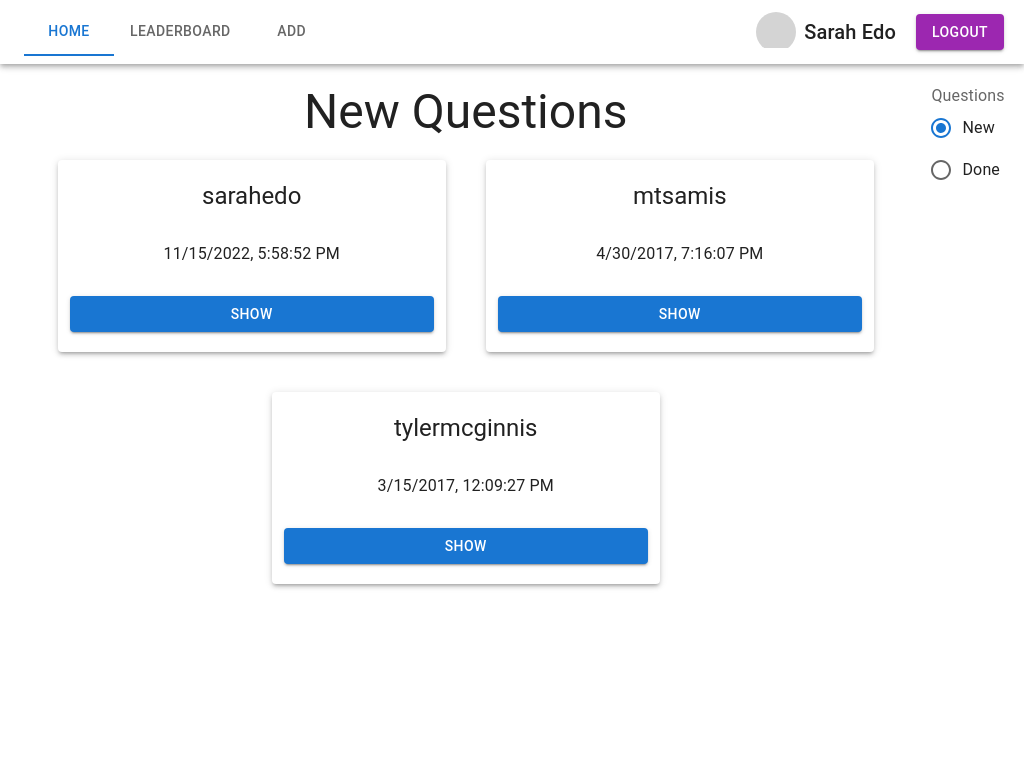
Test: App › Render tests › Switch to Add new question tab
Click the tab "add" at (292, 32), box [247, 8, 337, 56]
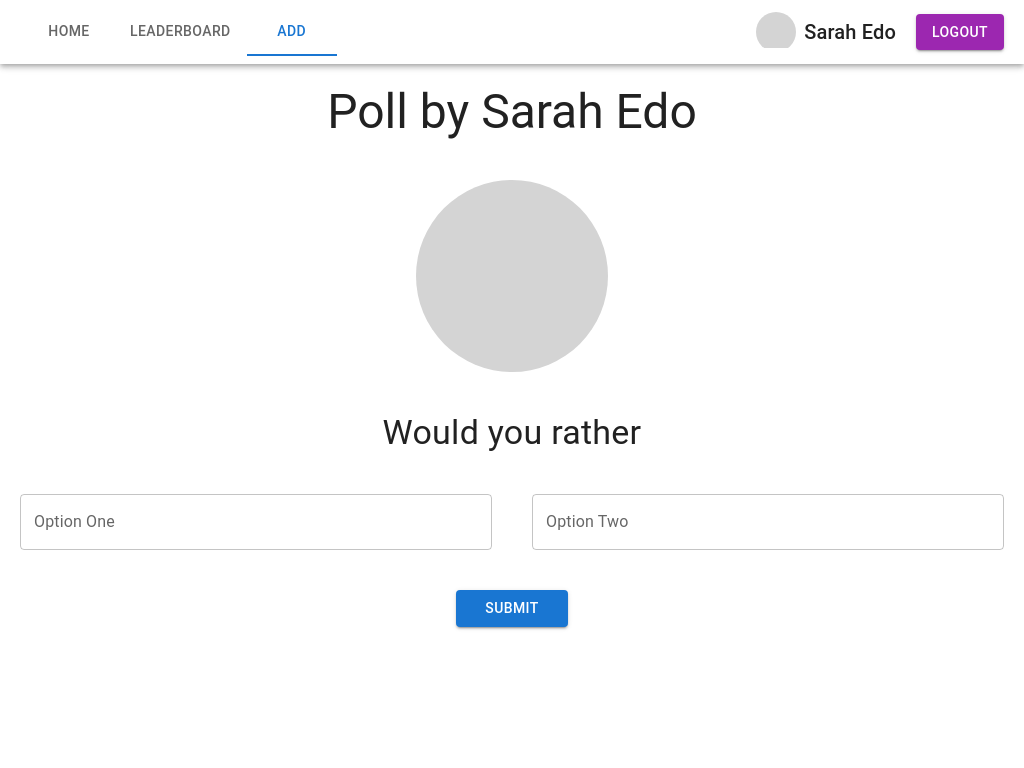
Check: the heading "Would you rather" is shown, box [383, 412, 641, 452]
